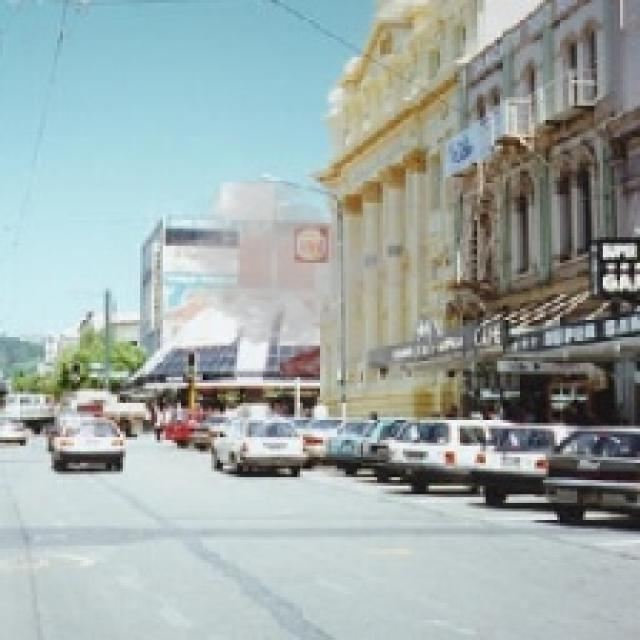smoke: (175, 172, 452, 388)
